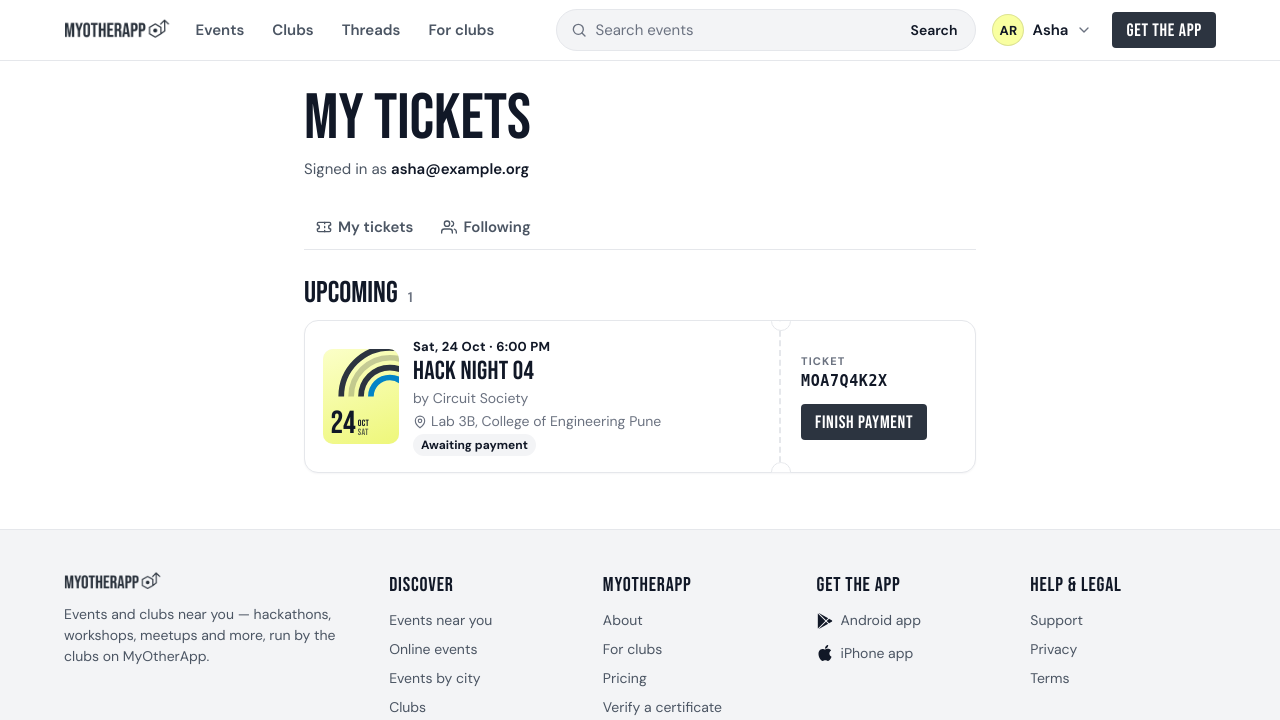
Test case: Finish payment, from My tickets › says a refused check (PAYMENT_ORDER_MISMATCH) in words
Click the button with aria-label "Finish payment for Hack Night 04" at point(864, 422), box [801,404,927,440]
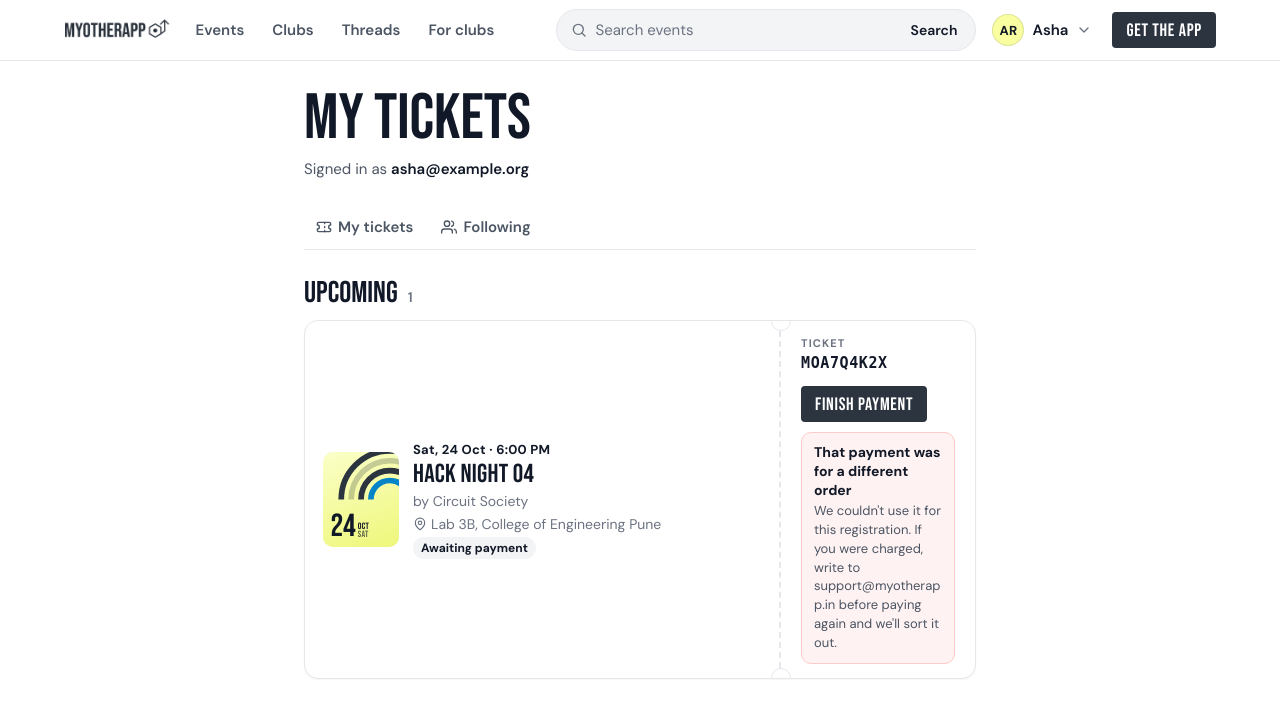
Expected: the message shows "That payment was for a different order", [814,443,940,499]
Expected: the message shows "write to support@myotherapp.in before paying again", [814,502,941,651]
